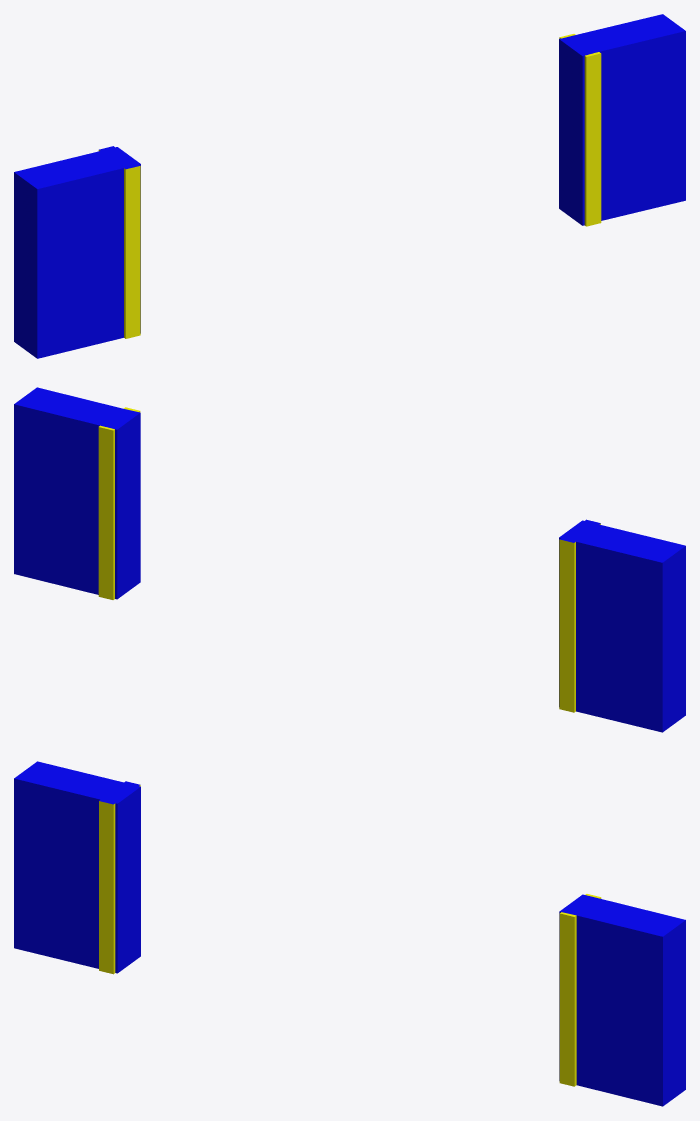
Rendered from ARCH_BOT_16x4.fbx.
3 renders of one model, top to bottom at view 1: azimuth 30°, elevation 25°; view 2: azimuth 150°, elevation 25°; view 3: azimuth 330°, elevation 25°, orthographic.
Visible parts, largest first — view 1: ARCH_BOT_16M; view 2: ARCH_BOT_16M; view 3: ARCH_BOT_16M.
Boxes of the visible parts, x1,y1,x2,y2 form: ARCH_BOT_16M: (14, 14, 685, 358); ARCH_BOT_16M: (14, 387, 685, 732); ARCH_BOT_16M: (14, 761, 685, 1106).
Bounding box in the file's own units: 1600 × 400 × 115.
